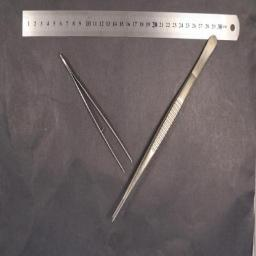DeBakey Dissector: (112, 35, 218, 223)
Gillies Toothed Dissector: (59, 52, 133, 174)
